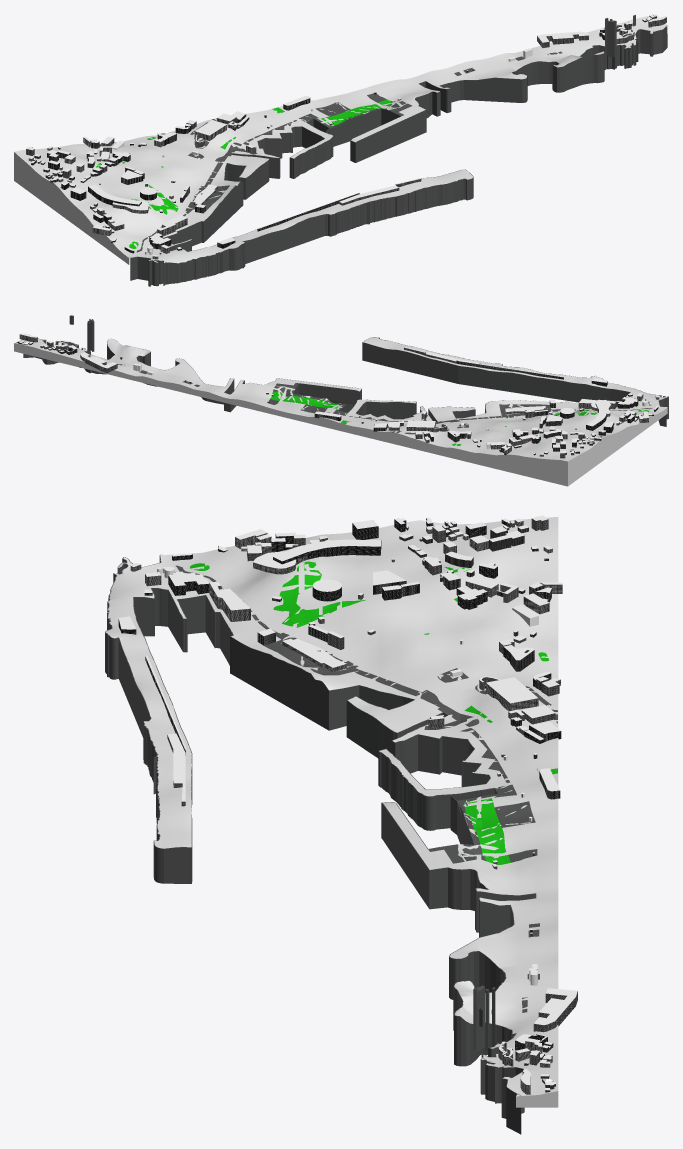
Rendered from Funchal.gltf.
3 views of the same model, one above another, from view 1: azimuth 30°, elevation 25°; view 2: azimuth 150°, elevation 25°; view 3: azimuth 270°, elevation 25° (orthographic). The views are drawn at different scales.
Visible parts, largest first — view 1: Terrain.001, element.193, Hotel Porto Santa Maria.001, Promenada Funchal, Pestana Casino Park.001, Marina Shopping.001, element.188; view 2: Terrain.001, element.193, element.613, Hotel Porto Santa Maria.001, element.188, Marina Shopping.001, Pestana Casino Park.001, Promenada Funchal, element.263; view 3: Terrain.001, element.193, Pestana Casino Park.001, element.395, Promenada Funchal, element.188, Hotel Porto Santa Maria.001, Marina Shopping.001, Lota do Funchal.001, Pestana CR7 Hotel.001.
Part boxes in pixels (<box>): Terrain.001: <box>14,14,668,264</box>; element.193: <box>130,15,667,286</box>; Hotel Porto Santa Maria.001: <box>537,31,588,47</box>; Promenada Funchal: <box>136,142,241,252</box>; Pestana Casino Park.001: <box>88,184,141,206</box>; Marina Shopping.001: <box>194,120,226,140</box>; element.188: <box>321,104,382,126</box>; Terrain.001: <box>14,337,668,486</box>; element.193: <box>23,315,668,426</box>; element.613: <box>456,360,563,379</box>; Hotel Porto Santa Maria.001: <box>80,352,117,373</box>; element.188: <box>282,396,341,408</box>; Marina Shopping.001: <box>406,420,435,432</box>; Pestana Casino Park.001: <box>586,402,606,430</box>; Promenada Funchal: <box>435,408,652,423</box>; element.263: <box>275,383,345,409</box>; Terrain.001: <box>105,517,558,1107</box>; element.193: <box>105,555,536,1134</box>; Pestana Casino Park.001: <box>273,539,381,564</box>; element.395: <box>273,561,365,627</box>; Promenada Funchal: <box>176,565,479,726</box>; element.188: <box>464,798,506,853</box>; Hotel Porto Santa Maria.001: <box>533,988,577,1032</box>; Marina Shopping.001: <box>486,677,538,711</box>; Lota do Funchal.001: <box>209,581,250,621</box>; Pestana CR7 Hotel.001: <box>282,638,346,671</box>.
Size of the model in its own units: 2033 by 154 by 741.
15 materials, 5 textured.
